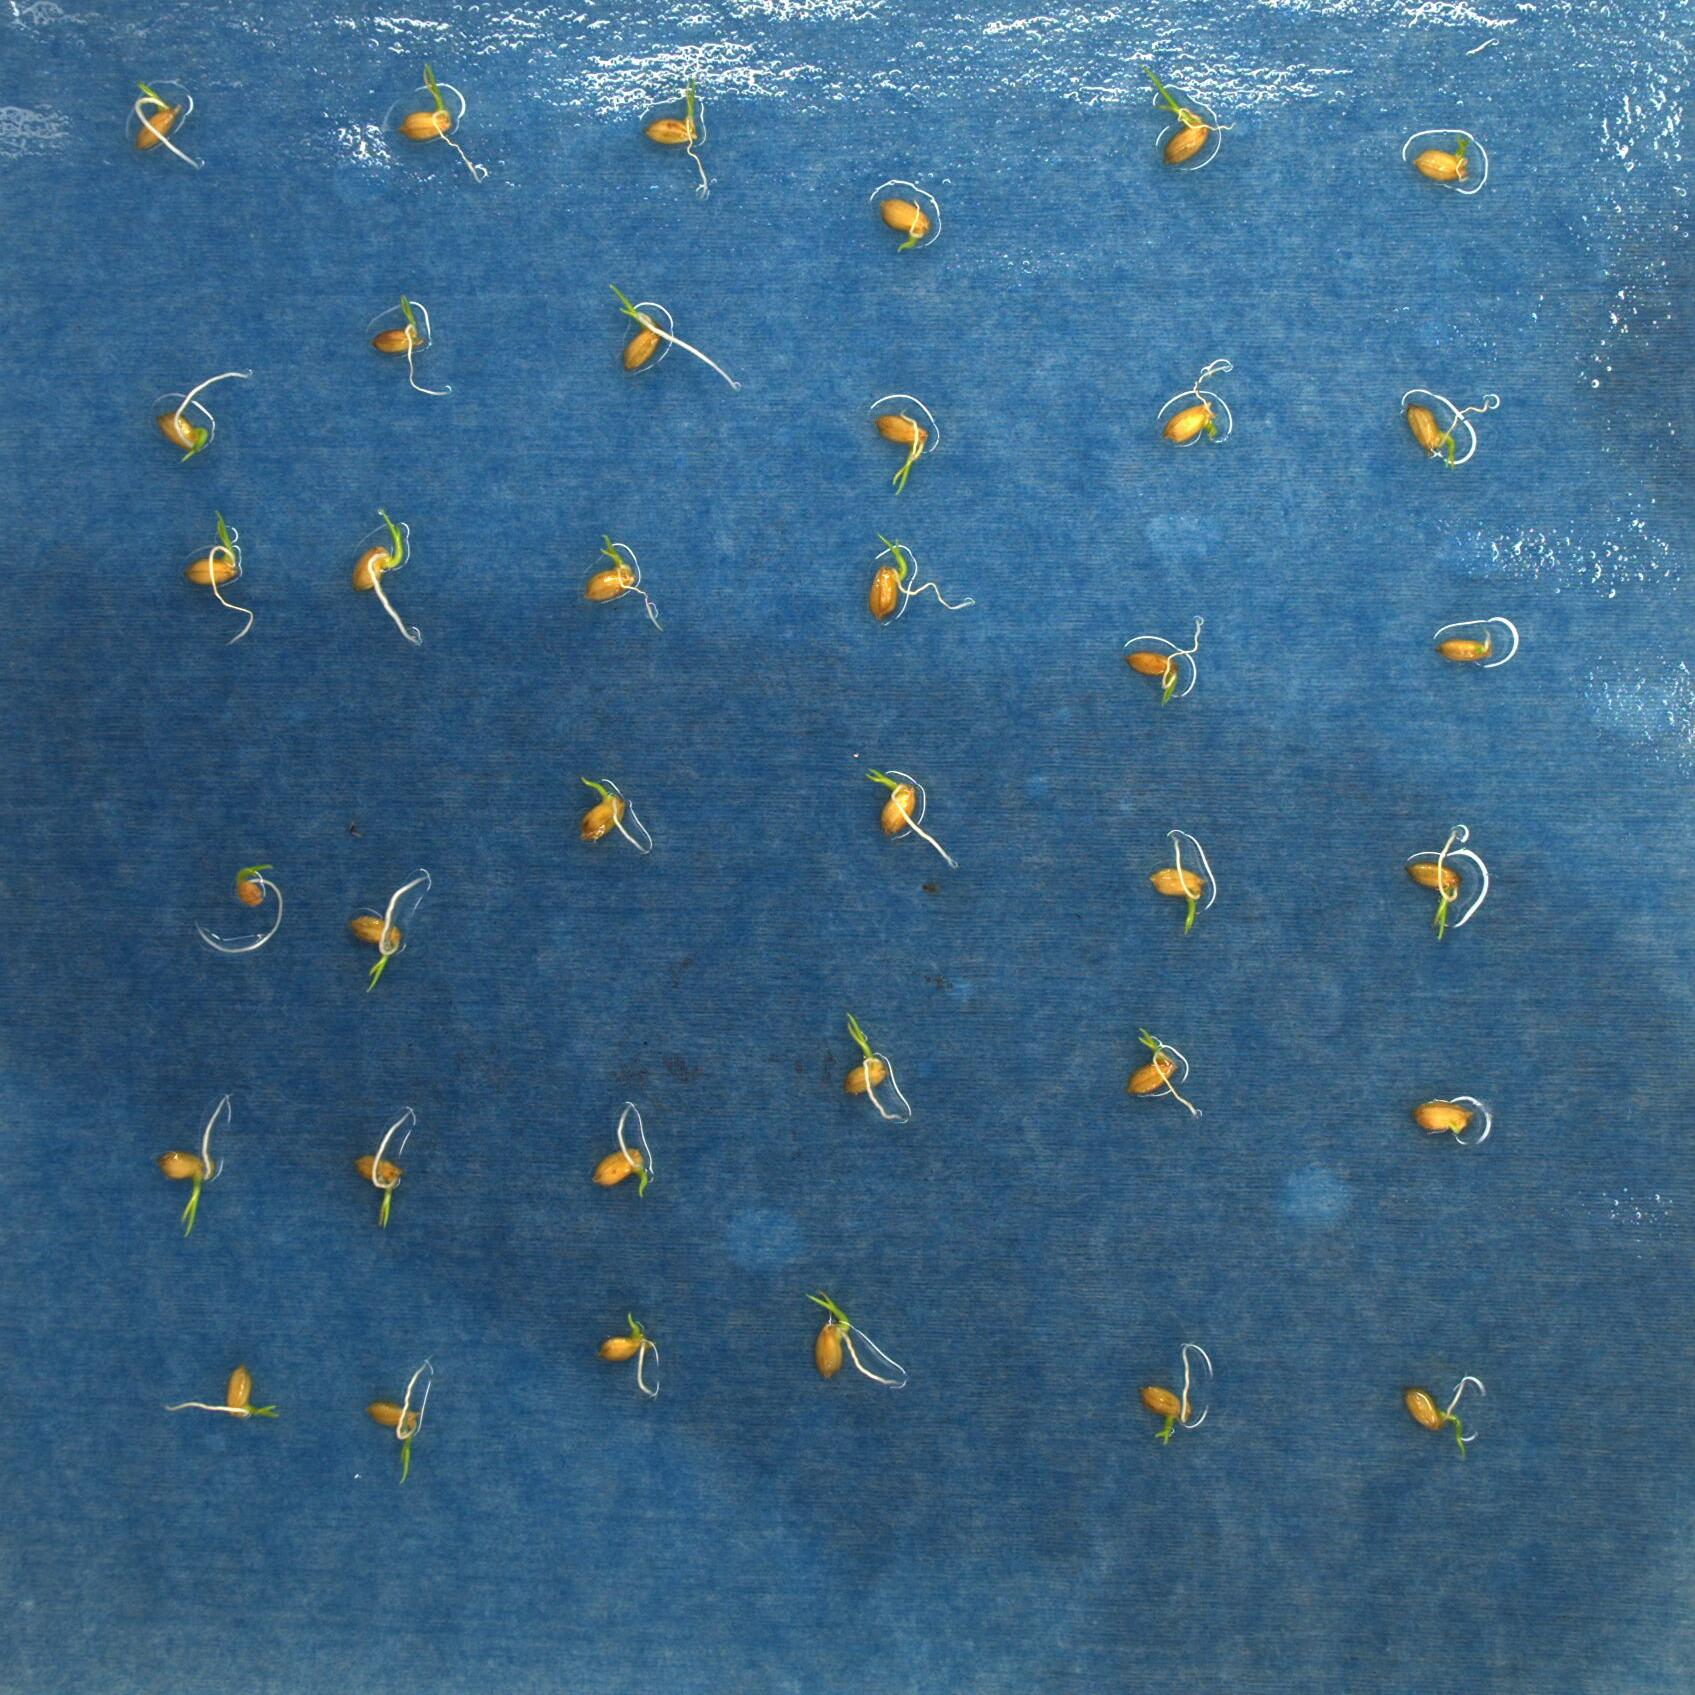not sprout: (1405, 1096, 1476, 1142), (880, 194, 931, 251), (1434, 629, 1496, 667)
sprout: (601, 275, 744, 394), (393, 61, 489, 185), (861, 529, 979, 627), (348, 504, 425, 652), (180, 508, 261, 649), (157, 1090, 231, 1239), (345, 868, 435, 990), (1139, 61, 1239, 168), (640, 67, 716, 205), (861, 765, 962, 869), (157, 365, 258, 466), (802, 1288, 902, 1391), (192, 858, 287, 959), (371, 292, 458, 400), (581, 532, 671, 633), (365, 1354, 432, 1482), (1125, 612, 1211, 709), (1125, 1023, 1208, 1122), (126, 78, 206, 179), (1400, 823, 1468, 941), (157, 1364, 286, 1425), (838, 1009, 903, 1127), (1403, 390, 1503, 466), (354, 1107, 414, 1229), (1158, 354, 1236, 449), (1146, 827, 1212, 936), (576, 771, 657, 860), (1138, 1340, 1200, 1450), (1400, 1374, 1478, 1461), (585, 1105, 657, 1198), (594, 1310, 661, 1402), (874, 405, 931, 498), (1409, 129, 1475, 183)
